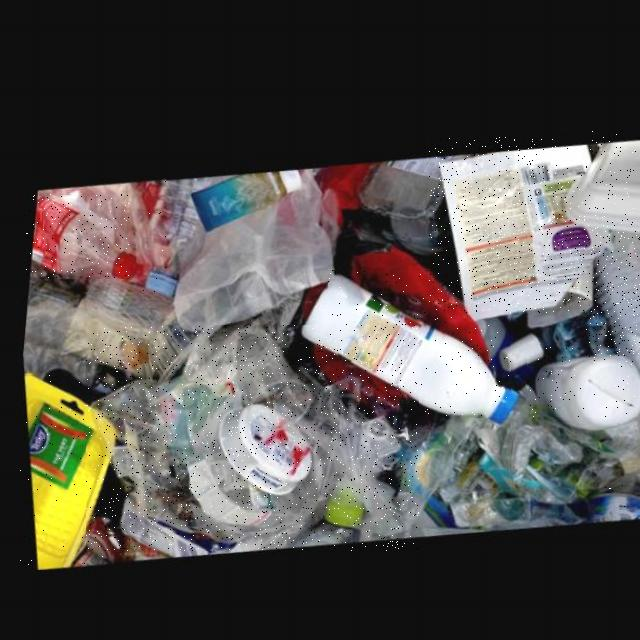metal: (576, 482, 639, 515)
plastic: (87, 325, 419, 551), (295, 270, 511, 417), (166, 165, 328, 331), (19, 375, 114, 570), (24, 194, 129, 279), (213, 400, 311, 491), (527, 344, 640, 416), (224, 326, 307, 418), (138, 174, 201, 293), (586, 221, 640, 356), (181, 166, 292, 230)
styrofoam: (561, 131, 639, 224)
wrapper: (430, 137, 602, 313)
